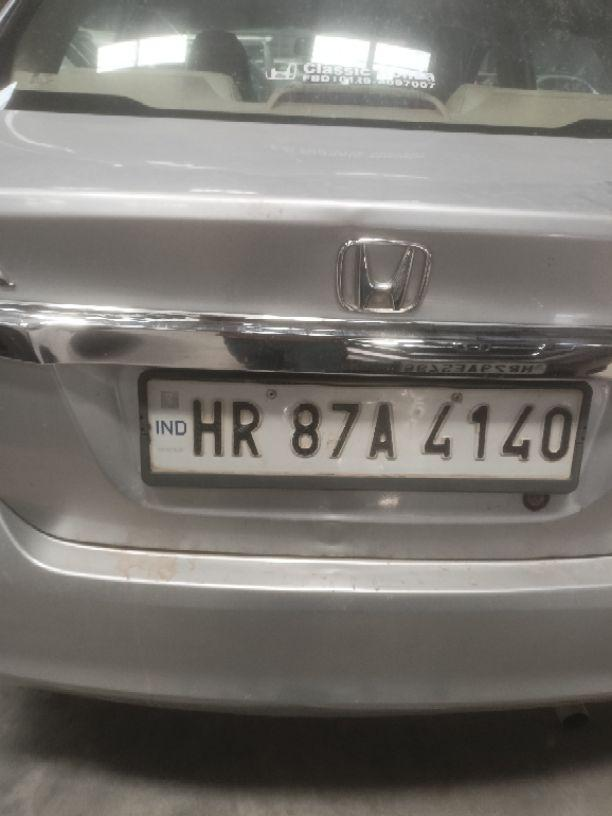license_plate: (136, 367, 592, 494)
